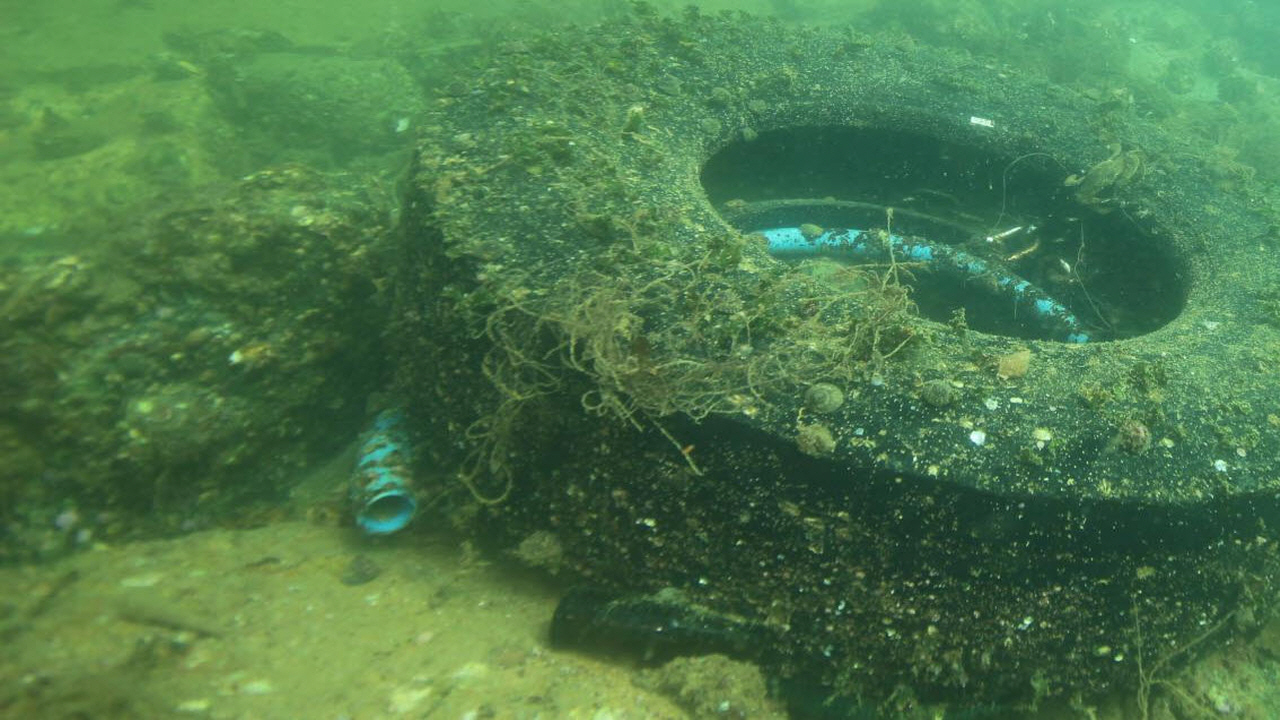tire: (403, 18, 1280, 689)
